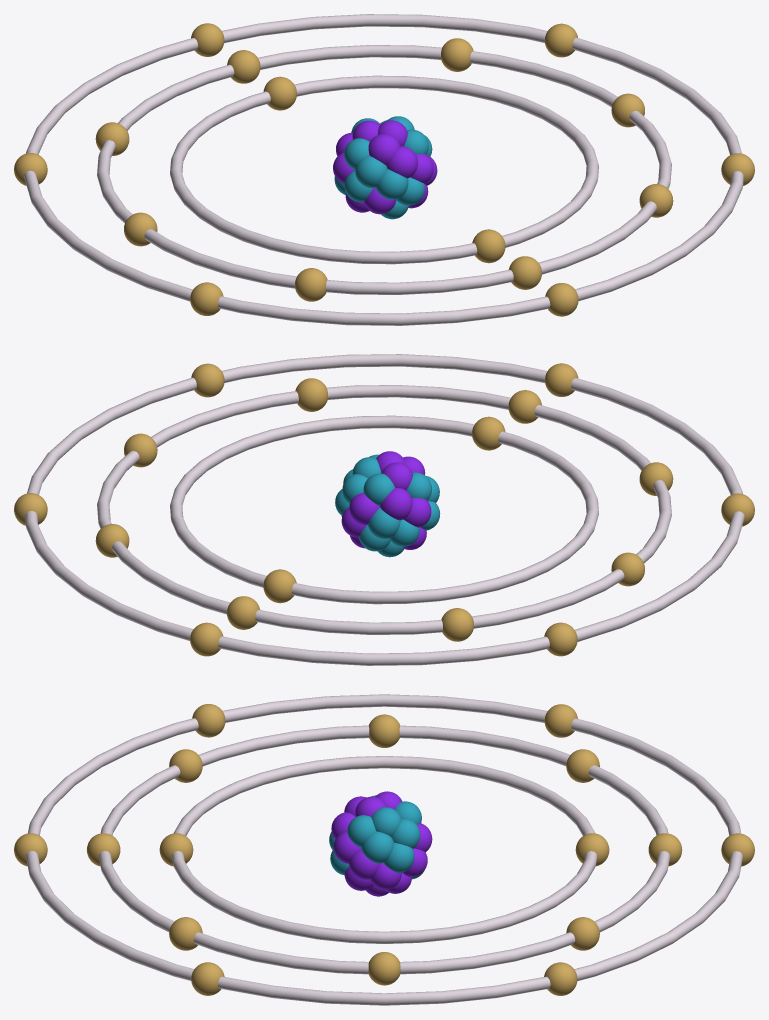
File: enxofre.glb
The picture shows the model from 3 angles, top to bottom: view 1: azimuth 30°, elevation 25°; view 2: azimuth 150°, elevation 25°; view 3: azimuth 270°, elevation 25°; orthographic projection.
Parts seen in each view (by area): view 1: Orbita_3, Orbita_2, Orbita_1, Nucleo_Completo, Eletron_C2_8, Eletron_C2_4, Eletron_C3_1, Eletron_1, Eletron_C2_1, Eletron_C3_3, Eletron_C3_6, Eletron_C2_5 (+8 smaller); view 2: Orbita_3, Orbita_2, Orbita_1, Nucleo_Completo, Eletron_C2_6, Eletron_C2_2, Eletron_C3_4, Eletron_2, Eletron_C2_5, Eletron_C3_2, Eletron_C3_5, Eletron_1 (+8 smaller); view 3: Orbita_3, Orbita_2, Orbita_1, Nucleo_Completo, Eletron_C2_3, Eletron_C2_7, Eletron_C3_6, Eletron_C3_3, Eletron_C3_5, Eletron_C3_2, Eletron_C2_2, Eletron_C2_4 (+8 smaller).
Part boxes in pixels (bbox=[...]): Orbita_3: bbox=[24, 14, 743, 325]; Orbita_2: bbox=[97, 45, 671, 294]; Orbita_1: bbox=[170, 75, 598, 264]; Nucleo_Completo: bbox=[333, 116, 437, 219]; Eletron_C2_8: bbox=[295, 268, 327, 301]; Eletron_C2_4: bbox=[441, 38, 473, 71]; Eletron_C3_1: bbox=[545, 283, 578, 316]; Eletron_1: bbox=[472, 229, 505, 263]; Eletron_C2_1: bbox=[508, 256, 541, 289]; Eletron_C3_3: bbox=[544, 23, 577, 57]; Eletron_C3_6: bbox=[190, 282, 223, 315]; Eletron_C2_5: bbox=[227, 50, 260, 83]; Orbita_3: bbox=[25, 354, 744, 665]; Orbita_2: bbox=[97, 385, 671, 634]; Orbita_1: bbox=[170, 415, 598, 604]; Nucleo_Completo: bbox=[335, 451, 440, 557]; Eletron_C2_6: bbox=[441, 608, 473, 641]; Eletron_C2_2: bbox=[295, 378, 327, 411]; Eletron_C3_4: bbox=[190, 622, 223, 656]; Eletron_2: bbox=[263, 569, 296, 603]; Eletron_C2_5: bbox=[227, 596, 260, 629]; Eletron_C3_2: bbox=[191, 363, 224, 397]; Eletron_C3_5: bbox=[544, 622, 577, 656]; Eletron_1: bbox=[472, 416, 505, 450]; Orbita_3: bbox=[26, 694, 742, 1005]; Orbita_2: bbox=[98, 725, 670, 974]; Orbita_1: bbox=[171, 756, 597, 943]; Nucleo_Completo: bbox=[329, 791, 432, 896]; Eletron_C2_3: bbox=[368, 952, 400, 985]; Eletron_C2_7: bbox=[368, 714, 400, 747]; Eletron_C3_6: bbox=[192, 704, 225, 737]; Eletron_C3_3: bbox=[544, 962, 577, 995]; Eletron_C3_5: bbox=[544, 704, 577, 737]; Eletron_C3_2: bbox=[191, 962, 224, 995]; Eletron_C2_2: bbox=[169, 917, 202, 950]; Eletron_C2_4: bbox=[566, 917, 599, 950].
Bounding box in the file's own units: 3.46 × 0.501 × 3.56.
